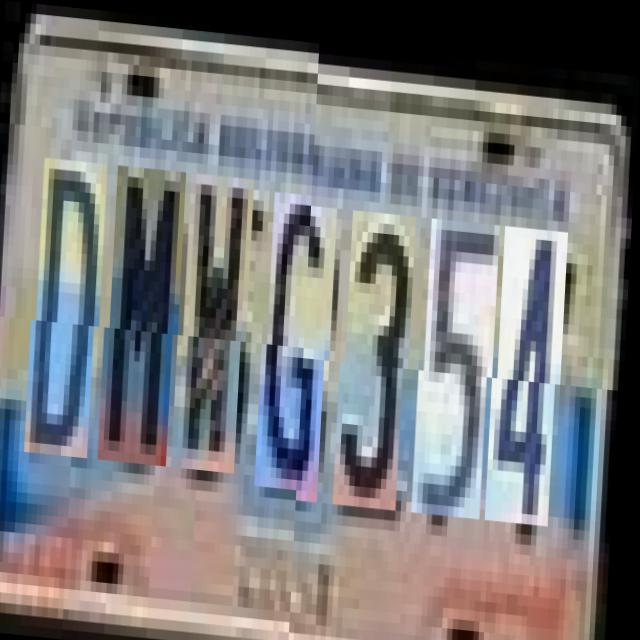3: (343, 202, 418, 502)
4: (495, 215, 570, 514)
5: (422, 209, 502, 509)
D: (34, 167, 109, 467)
G: (264, 195, 340, 496)
M: (108, 173, 188, 473)
W: (181, 179, 256, 479)
